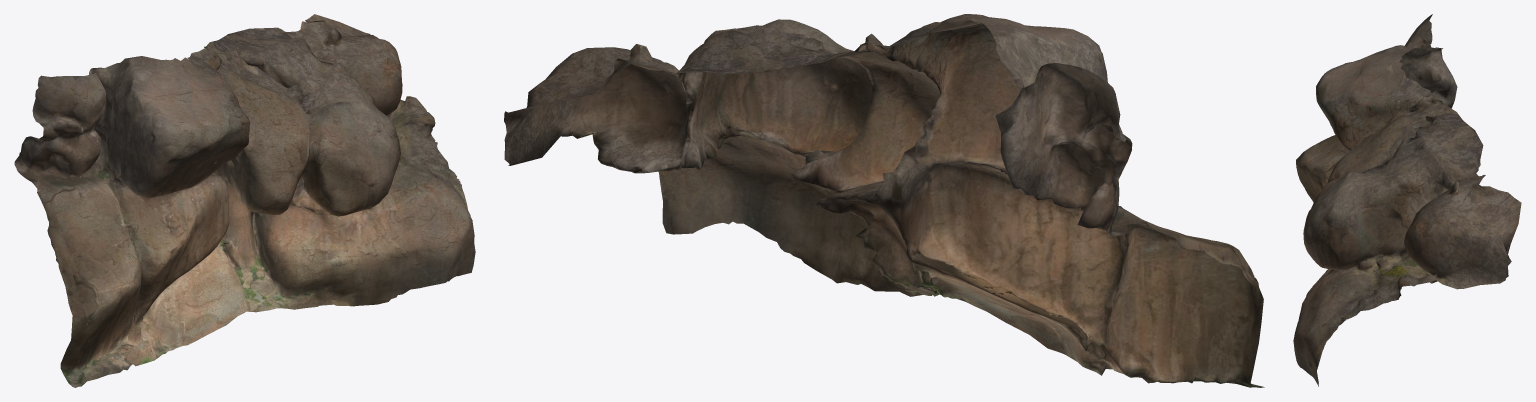
3 renders of one model, left to right at view 1: azimuth 30°, elevation 25°; view 2: azimuth 150°, elevation 25°; view 3: azimuth 270°, elevation 25°, orthographic. The views are drawn at different scales.
Parts seen in each view (by area): view 1: drone_rock_01; view 2: drone_rock_01; view 3: drone_rock_01.
Part boxes in pixels (x1=…): drone_rock_01: x1=14, y1=14, x2=475, y2=387; drone_rock_01: x1=504, y1=14, x2=1264, y2=387; drone_rock_01: x1=1293, y1=14, x2=1521, y2=386.
Bounding box in the file's own units: 8.28 × 4.96 × 4.39.
1 material, 1 textured.
